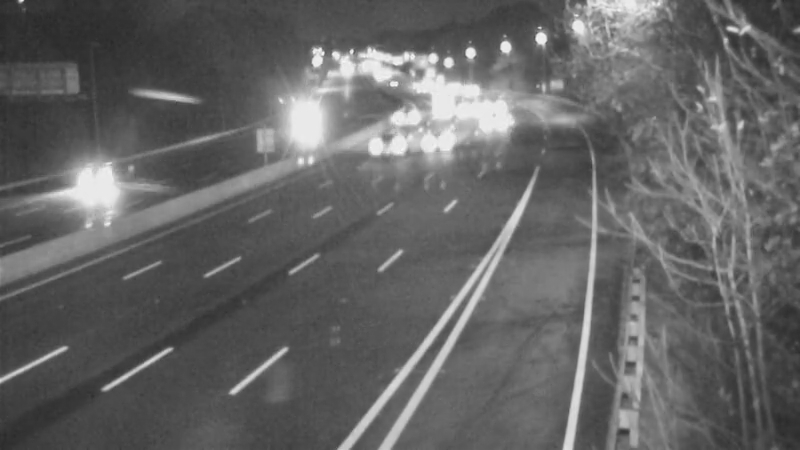vehicle: (51, 145, 131, 225), (471, 78, 521, 128), (416, 86, 466, 136), (440, 84, 490, 134), (382, 88, 432, 138), (468, 96, 518, 146), (405, 114, 455, 164), (357, 120, 407, 170), (274, 94, 324, 144)
